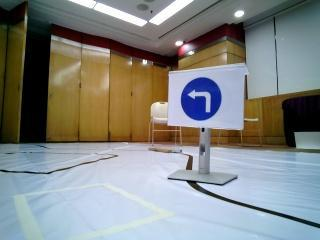left: (172, 76, 233, 130)
